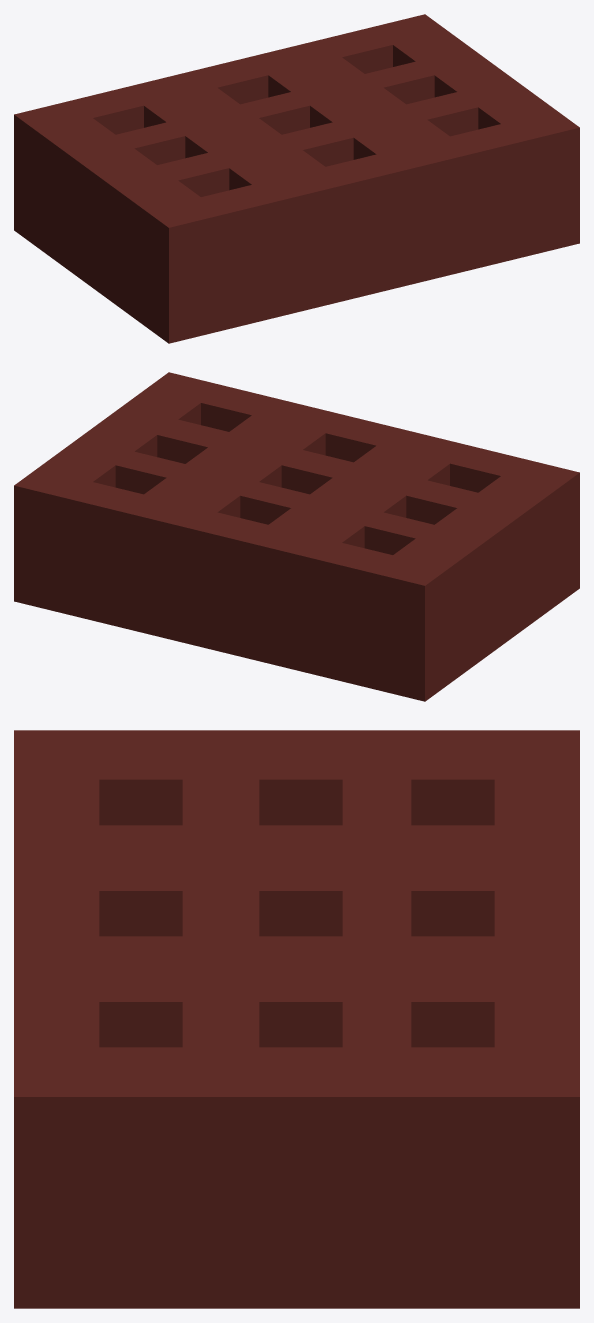
The model's file is Brick_1.fbx.
The picture shows the model from 3 angles, top to bottom: view 1: azimuth 30°, elevation 25°; view 2: azimuth 150°, elevation 25°; view 3: azimuth 270°, elevation 25°; orthographic projection. The views are drawn at different scales.
Visible parts, largest first — view 1: Brick_1; view 2: Brick_1; view 3: Brick_1.
Boxes of the visible parts, x1,y1,x2,y2 form: Brick_1: [14, 14, 579, 343]; Brick_1: [14, 372, 579, 701]; Brick_1: [14, 730, 579, 1308].
Size of the model in its own units: 37.17 by 10.01 by 24.26.
